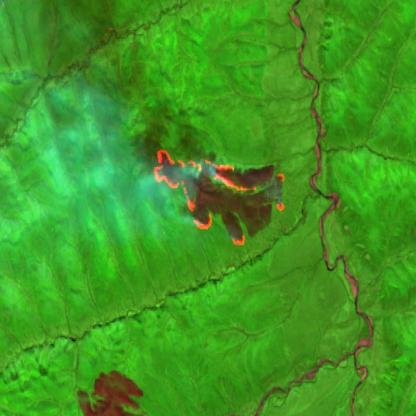fire: (152, 148, 288, 248)
